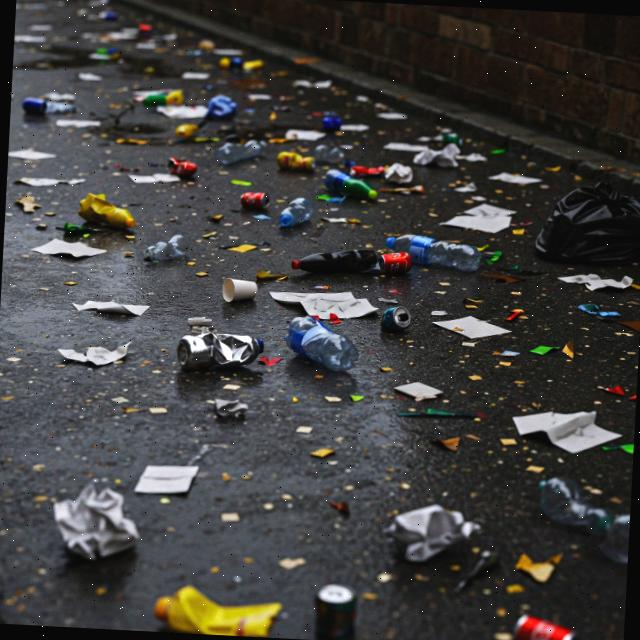aluminum: (174, 325, 267, 379), (378, 302, 415, 338), (375, 248, 415, 280), (238, 190, 272, 216), (166, 154, 200, 180)
paper: (508, 404, 623, 460), (264, 281, 380, 324), (426, 306, 514, 346), (54, 332, 134, 372), (69, 294, 152, 322), (29, 235, 109, 262), (555, 269, 636, 295), (392, 376, 444, 406), (218, 276, 260, 308)
plastic: (532, 476, 632, 564), (282, 314, 362, 372), (386, 231, 482, 275), (287, 240, 378, 284), (76, 190, 140, 233), (141, 230, 190, 268), (278, 195, 314, 231)
